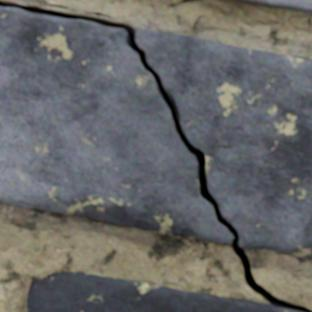brick: (27, 270, 301, 311), (234, 0, 311, 15)
broken_brick: (0, 8, 233, 244), (135, 29, 311, 258)
crack: (0, 1, 311, 311)
